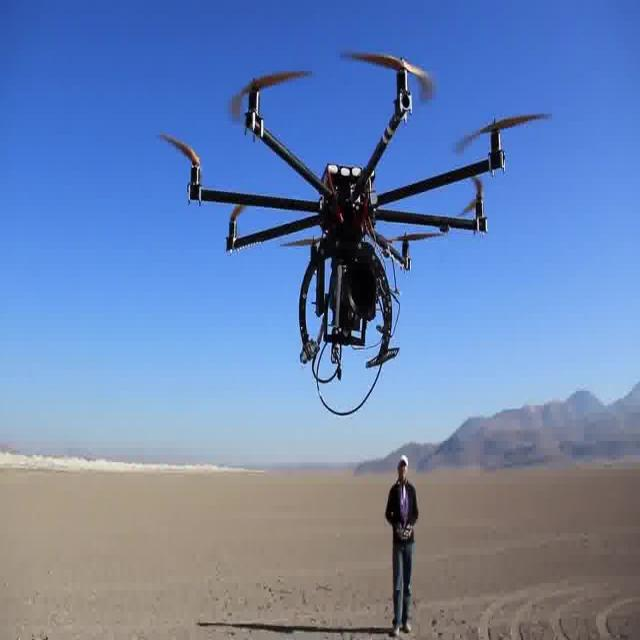drone: (145, 28, 556, 422)
